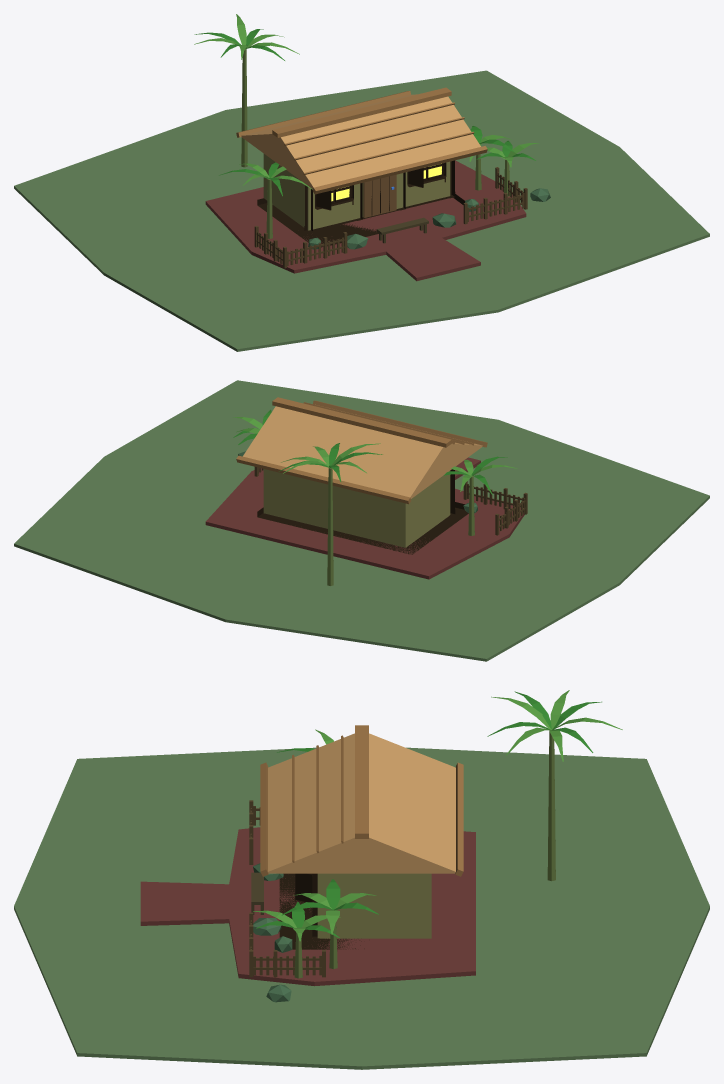
Rendered from NipaHut.fbx.
3 renders of one model, top to bottom at view 1: azimuth 30°, elevation 25°; view 2: azimuth 150°, elevation 25°; view 3: azimuth 270°, elevation 25°, orthographic. The views are drawn at different scales.
Parts seen in each view (by area): view 1: Grass_Base, Yard_Pad, Roof, Walls, Roof_Ridge, Roof_Fascia_F, Porch_Deck, Door, Roof_Fascia_B, PalmBack_Trunk; view 2: Grass_Base, Roof, Yard_Pad, Walls, Roof_Ridge, Porch_Deck, Roof_Fascia_B, Roof_Fascia_F, PalmBack_Trunk; view 3: Grass_Base, Roof, Yard_Pad, Walls, Roof_Ridge, Porch_Deck, PalmBack_Trunk, Roof_Fascia_B, Roof_Fascia_F.
Boxes of the visible parts, left/top/right/bottom form: Grass_Base: left=14, top=70, right=709, bottom=351; Yard_Pad: left=205, top=160, right=526, bottom=281; Roof: left=241, top=94, right=480, bottom=188; Walls: left=263, top=153, right=450, bottom=230; Roof_Ridge: left=272, top=87, right=451, bottom=137; Roof_Fascia_F: left=312, top=146, right=487, bottom=194; Porch_Deck: left=257, top=194, right=464, bottom=247; Door: left=363, top=174, right=396, bottom=217; Roof_Fascia_B: left=236, top=91, right=410, bottom=137; PalmBack_Trunk: left=241, top=49, right=247, bottom=167; Grass_Base: left=14, top=380, right=709, bottom=661; Roof: left=243, top=404, right=482, bottom=498; Yard_Pad: left=205, top=457, right=524, bottom=579; Walls: left=263, top=469, right=450, bottom=547; Roof_Ridge: left=272, top=397, right=451, bottom=447; Porch_Deck: left=257, top=502, right=468, bottom=554; Roof_Fascia_B: left=236, top=455, right=411, bottom=504; Roof_Fascia_F: left=313, top=400, right=487, bottom=447; PalmBack_Trunk: left=327, top=468, right=333, bottom=585; Grass_Base: left=14, top=747, right=709, bottom=1069; Roof: left=268, top=733, right=455, bottom=873; Yard_Pad: left=140, top=827, right=475, bottom=986; Walls: left=317, top=873, right=431, bottom=938; Roof_Ridge: left=355, top=725, right=368, bottom=838; Porch_Deck: left=279, top=873, right=364, bottom=949; PalmBack_Trunk: left=547, top=730, right=555, bottom=881; Roof_Fascia_B: left=455, top=762, right=463, bottom=876; Roof_Fascia_F: left=260, top=762, right=268, bottom=876.
Size of the model in its own units: 24 by 6.09 by 22.
